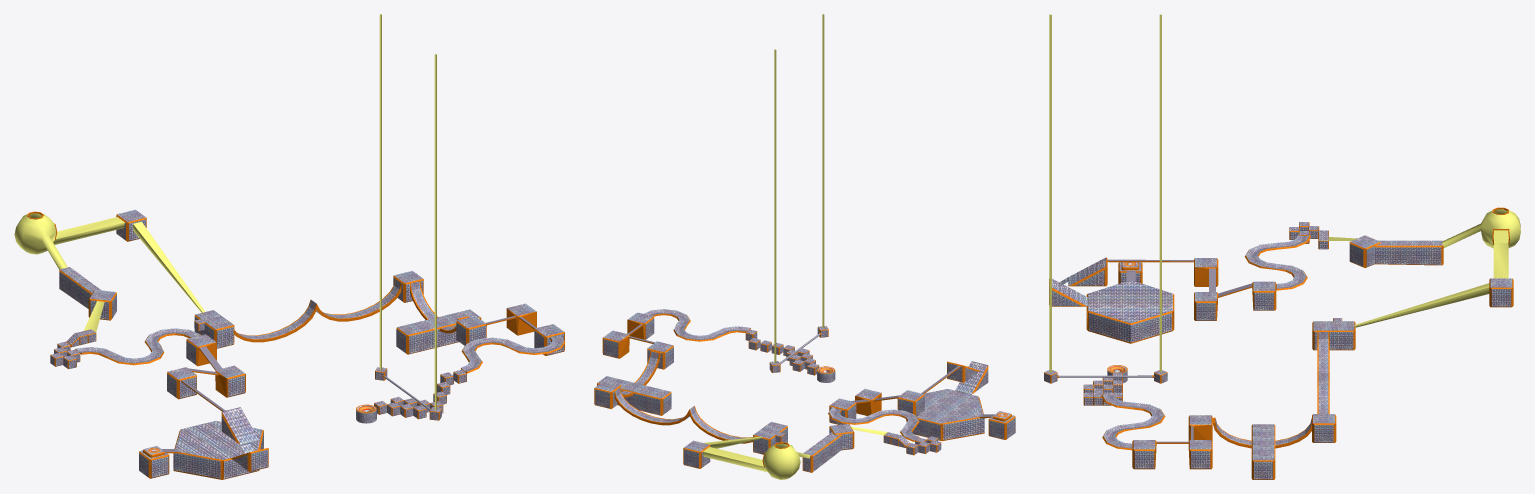
File: Level40.fbx
3 views of the same model, side by side, from view 1: azimuth 30°, elevation 25°; view 2: azimuth 150°, elevation 25°; view 3: azimuth 270°, elevation 25° (orthographic). The views are drawn at different scales.
Parts seen in each view (by area): view 1: Level40; view 2: Level40; view 3: Level40.
Part boxes in pixels (x1,y1,x2,y2): Level40: (14, 14, 565, 479); Level40: (594, 14, 1015, 479); Level40: (1044, 14, 1520, 479).
Size of the model in its own units: 6822 by 5961 by 6535.
13 materials, 7 textured.
